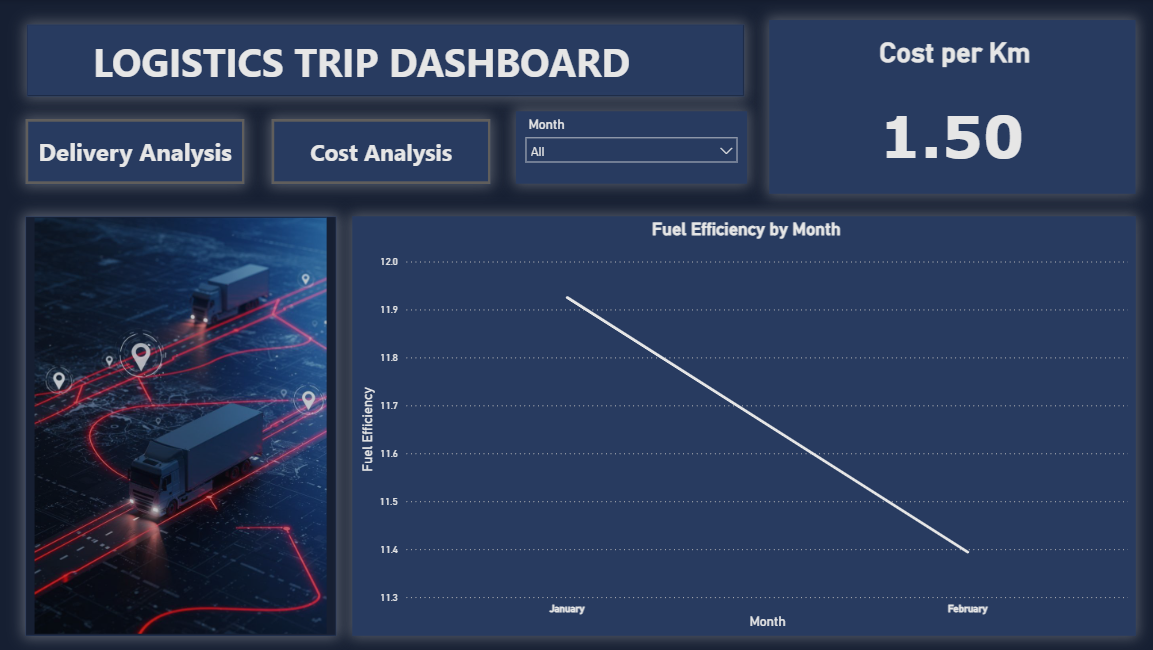

What the dashboard file says about the page in this screenshot:
{"tool":"powerbi","page":{"name":"Dashboard","canvas":[1280,720],"ordinal":0},"visuals":[{"type":"image","box":[34.5,239,342.6,462.1],"z":0},{"type":"shape","box":[36.7,28.5,790.8,79.5],"z":3000},{"type":"slicer","fields":{"Values":["Trip_Data.Delivery_Date.Variation.Date Hierarchy.Month"]},"box":[574.8,124.3,254.8,79.5],"z":5000},{"type":"textbox","box":[103.9,34.6,628.6,70.1],"z":6000},{"type":"actionButton","box":[34.5,132.8,241.7,71.7],"z":7000},{"type":"actionButton","box":[305.4,132.8,241.7,71.7],"z":8000},{"type":"cardVisual","title":"Cost per Km","fields":{"Data":["Trip_Data.Cost Per Km"]},"box":[855.1,23.9,403.7,191.2],"z":9000},{"type":"lineChart","fields":{"Y":["Trip_Data.Fuel Efficiency"],"Category":["Trip_Data.Delivery_Date.Variation.Date Hierarchy.Month"]},"box":[395.7,239,863.1,462.1],"z":10000}]}

Visuals, with their boxes in screenshot pixels (x1, y1, x2, y2), scaled from the page's 1280x720 canvas onto the 1153x650 screenshot:
image: [31, 216, 340, 633]
shape: [33, 26, 745, 98]
slicer - Trip_Data.Delivery_Date.Variation.Date Hierarchy.Month: [518, 112, 747, 184]
textbox: [94, 31, 660, 95]
actionButton: [31, 120, 249, 185]
actionButton: [275, 120, 493, 185]
"Cost per Km" cardVisual: [770, 22, 1134, 194]
lineChart - Trip_Data.Fuel Efficiency x Trip_Data.Delivery_Date.Variation.Date Hierarchy.Month: [356, 216, 1134, 633]
